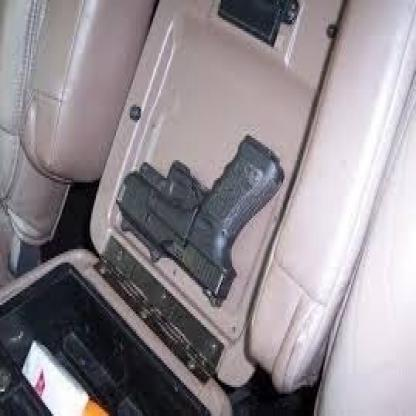Pistol: (111, 58, 286, 305)
